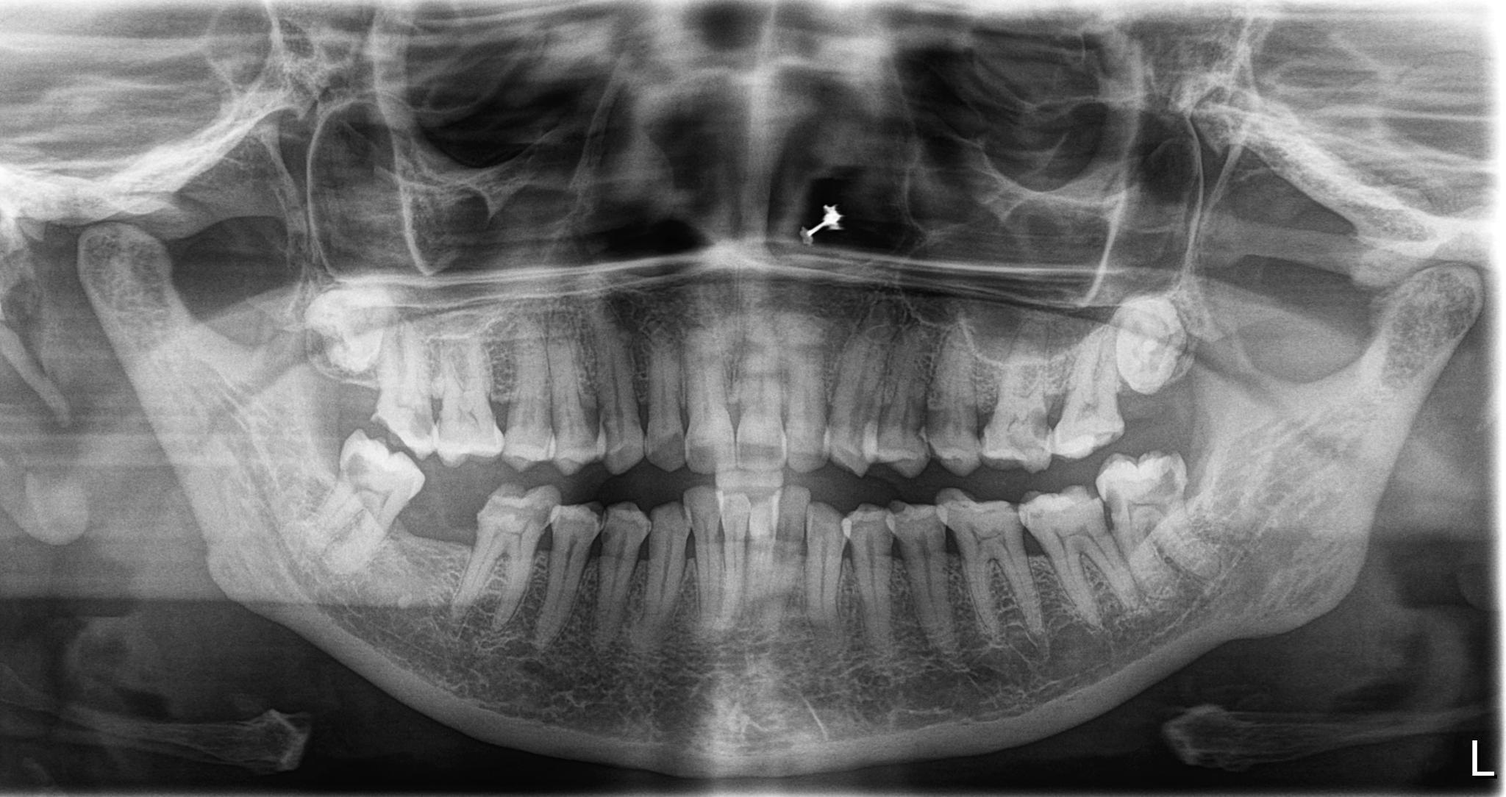Impacted Third Molar: (289, 283, 386, 385), (1107, 300, 1205, 394)
Missing Tooth: (1106, 467, 1229, 581), (408, 467, 482, 626), (320, 428, 399, 557)
